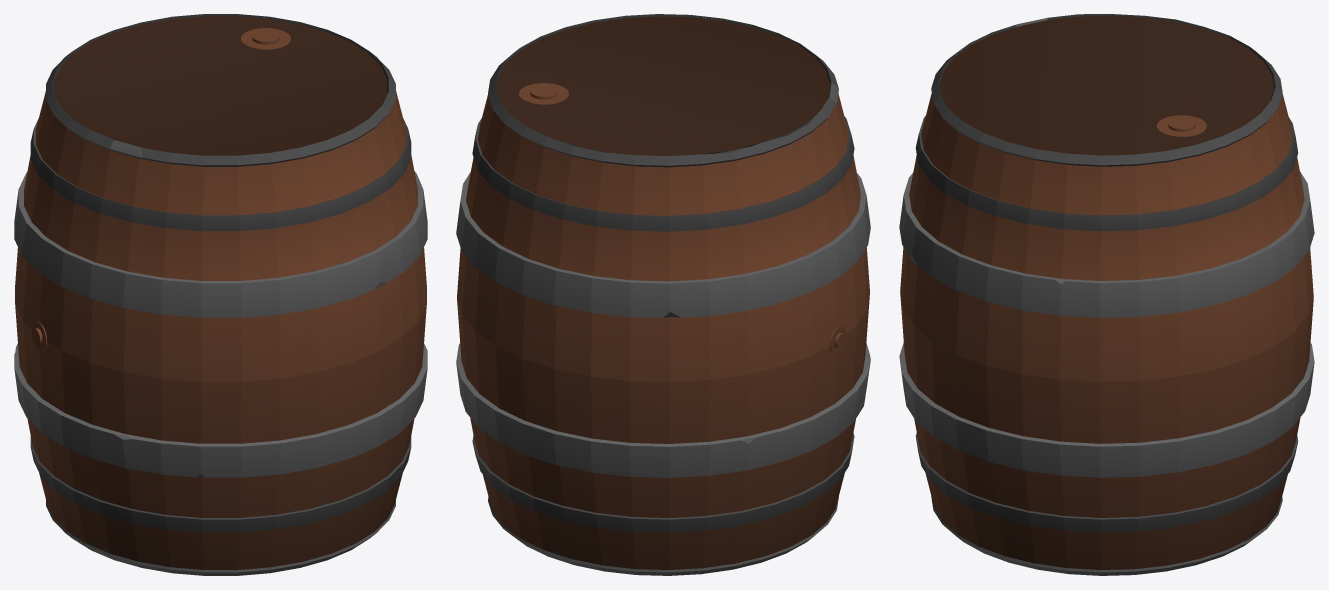
File: Single Large Dark Barrel Closed.fbx
3 renders of one model, left to right at view 1: azimuth 30°, elevation 25°; view 2: azimuth 150°, elevation 25°; view 3: azimuth 270°, elevation 25°, orthographic.
Parts seen in each view (by area): view 1: Single Large Dark Barrel Closed; view 2: Single Large Dark Barrel Closed; view 3: Single Large Dark Barrel Closed.
Part boxes in pixels (x1=…): Single Large Dark Barrel Closed: x1=14, y1=14, x2=427, y2=575; Single Large Dark Barrel Closed: x1=456, y1=14, x2=870, y2=575; Single Large Dark Barrel Closed: x1=899, y1=14, x2=1314, y2=575.
Size of the model in its own units: 424 by 379 by 381.
Materials: 1 (1 with a texture image).
